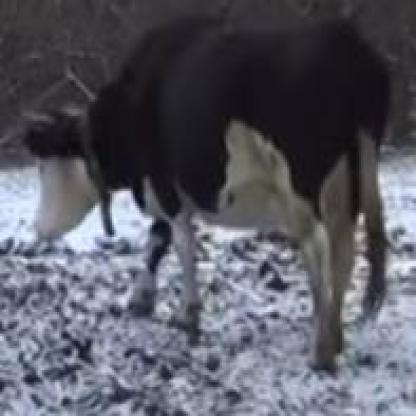cow: (22, 10, 392, 370)
